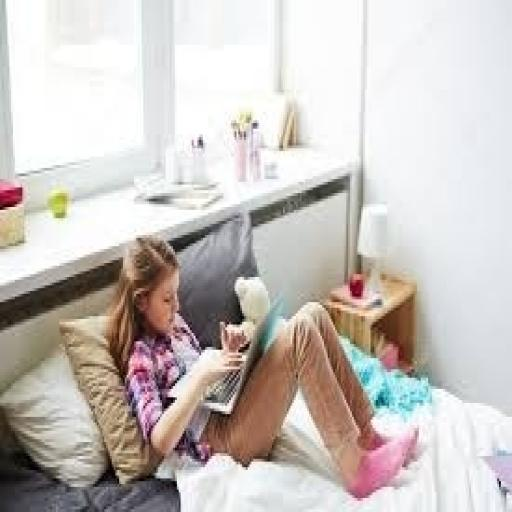using_laptop: (197, 288, 285, 417)
